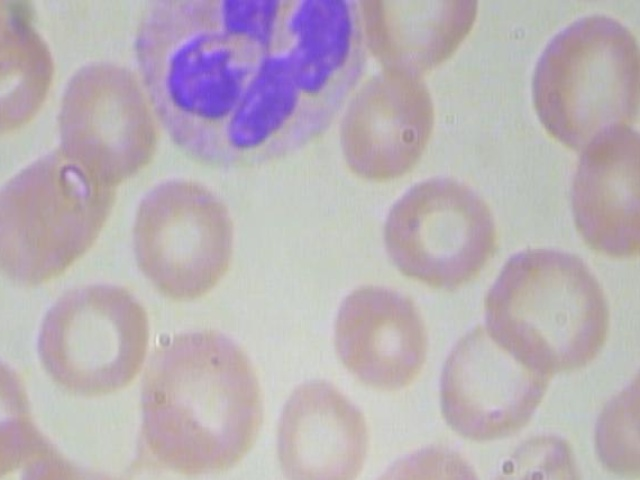RBC: (128, 324, 269, 480), (24, 273, 167, 407), (129, 173, 258, 318), (484, 239, 617, 371), (371, 168, 504, 297), (324, 53, 441, 189), (523, 15, 640, 148), (319, 276, 441, 393), (316, 279, 438, 395), (549, 119, 640, 259), (57, 54, 153, 186), (271, 370, 376, 480), (357, 0, 481, 77), (0, 6, 63, 135)
WBC: (125, 0, 369, 171)
